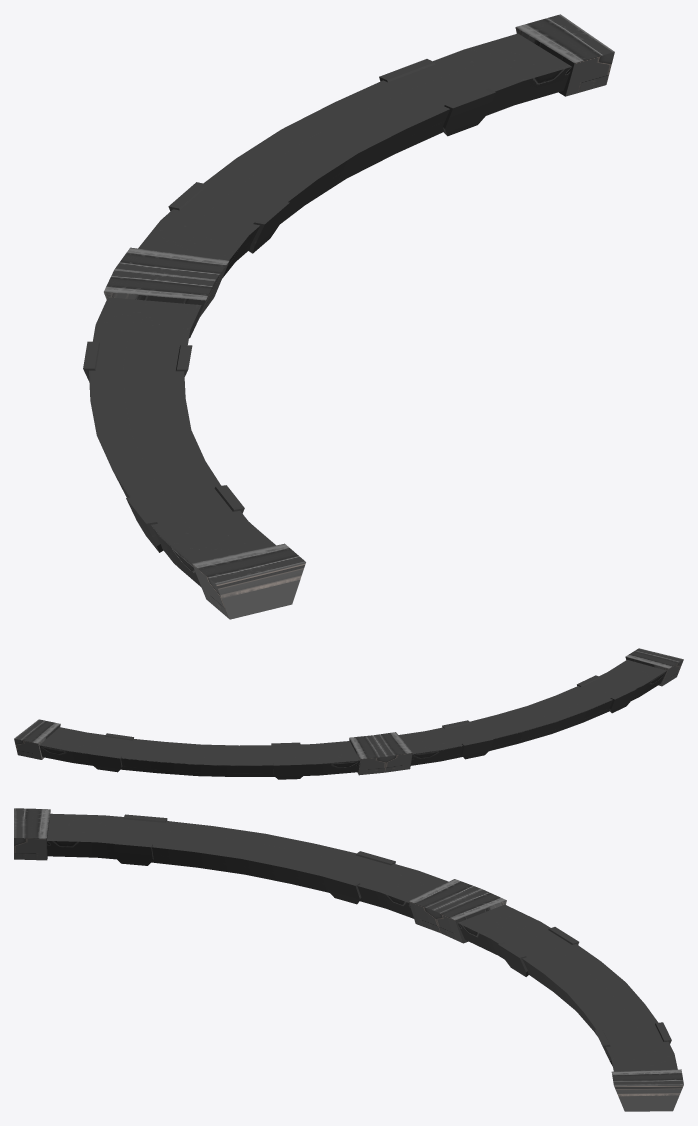
File: quaternius-scifi-light-corner.glb
3 views of the same model, one above another, from view 1: azimuth 30°, elevation 25°; view 2: azimuth 150°, elevation 25°; view 3: azimuth 270°, elevation 25° (orthographic). The views are drawn at different scales.
Parts seen in each view (by area): view 1: Prop_Light_Corner; view 2: Prop_Light_Corner; view 3: Prop_Light_Corner.
Part boxes in pixels (x1,y1,x2,y2): Prop_Light_Corner: [83, 14, 614, 619]; Prop_Light_Corner: [14, 648, 683, 779]; Prop_Light_Corner: [14, 808, 683, 1111].
Size of the model in its own units: 4.12 by 0.1819 by 4.21.
Materials: 2 (1 with a texture image).
